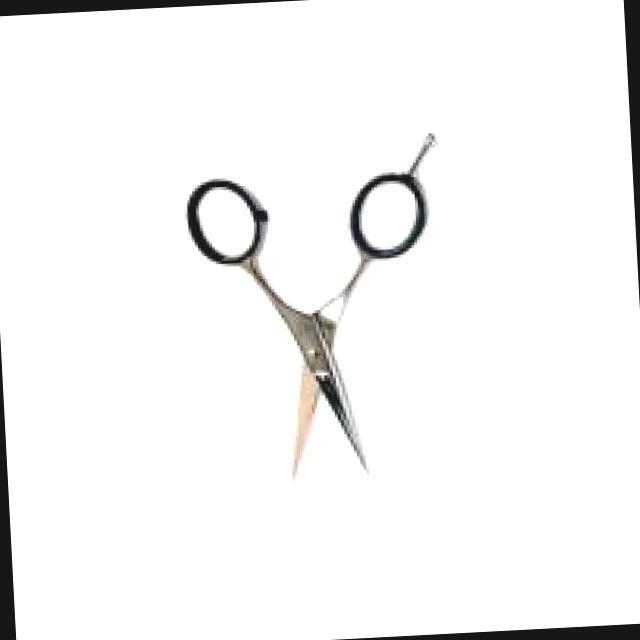Scissors: (164, 112, 466, 496)
